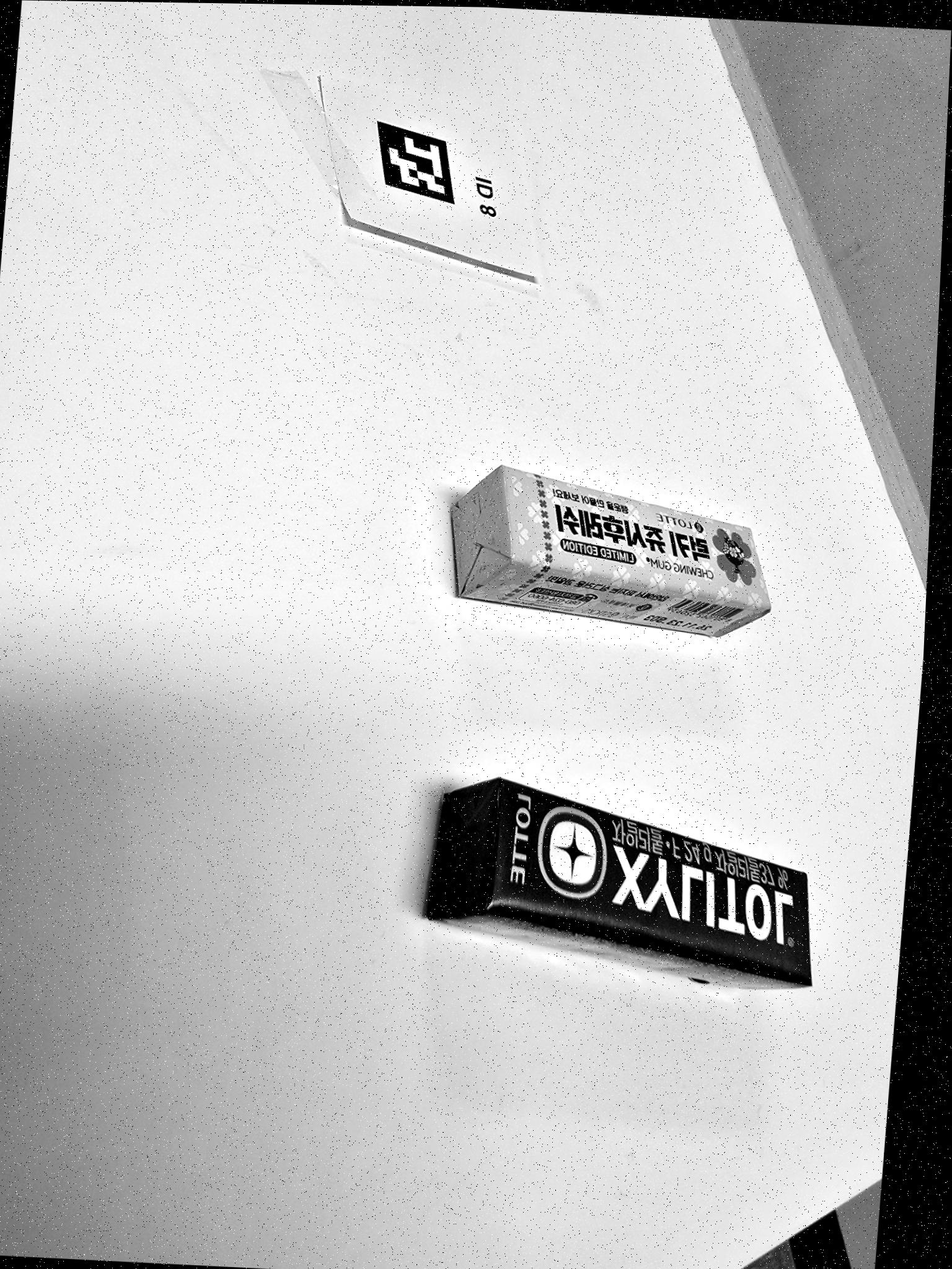gum_green: (428, 779, 811, 986)
gum_yellow: (452, 466, 771, 637)
